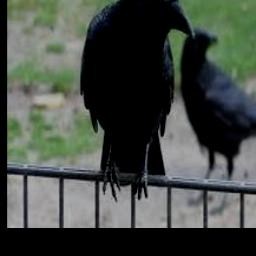Crow: (80, 0, 193, 202), (180, 30, 256, 218)
